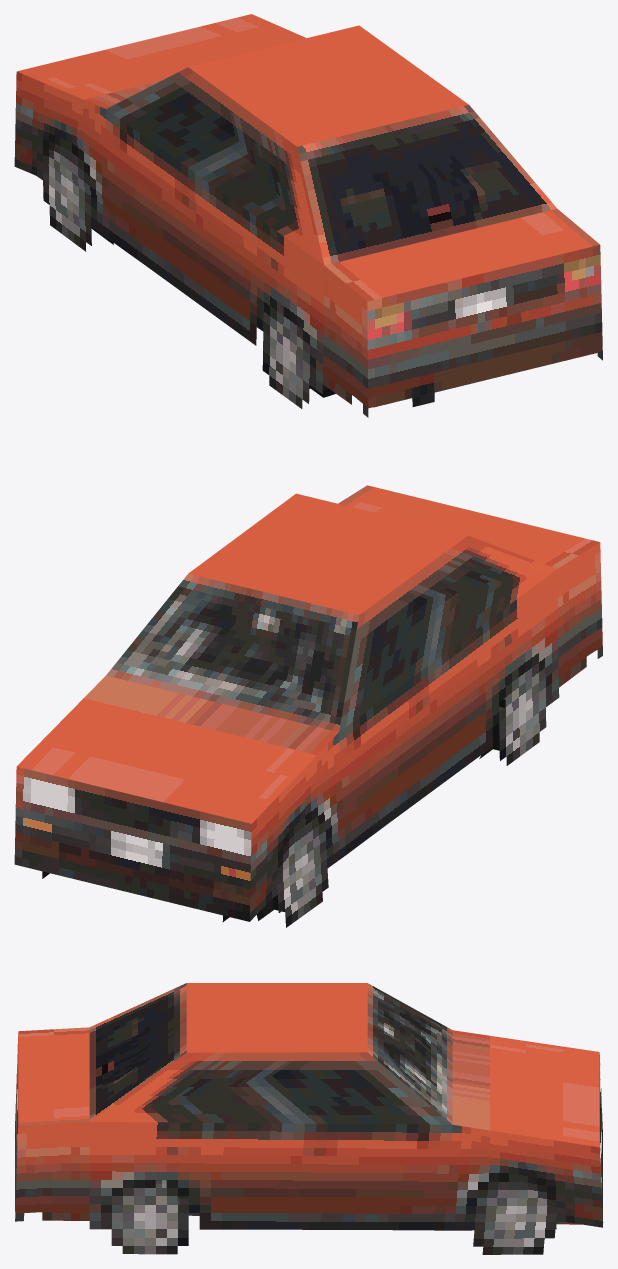
Rendered from car-jetta-plt1.glb.
3 views of the same model, one above another, from view 1: azimuth 30°, elevation 25°; view 2: azimuth 150°, elevation 25°; view 3: azimuth 270°, elevation 25° (orthographic). The views are drawn at different scales.
Parts seen in each view (by area): view 1: car-jetta-plt1; view 2: car-jetta-plt1; view 3: car-jetta-plt1.
Part boxes in pixels (box(x1,y1,x2,y2)): car-jetta-plt1: box(14, 14, 602, 417); car-jetta-plt1: box(14, 485, 602, 927); car-jetta-plt1: box(15, 983, 603, 1254).
Size of the model in its own units: 1.67 by 1.53 by 4.33.
15 materials, 15 textured.
